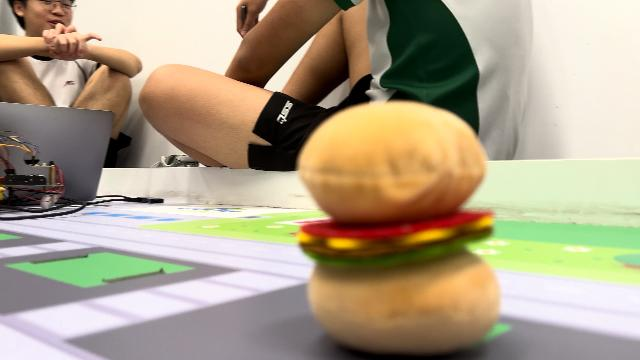burger: (290, 96, 498, 352)
